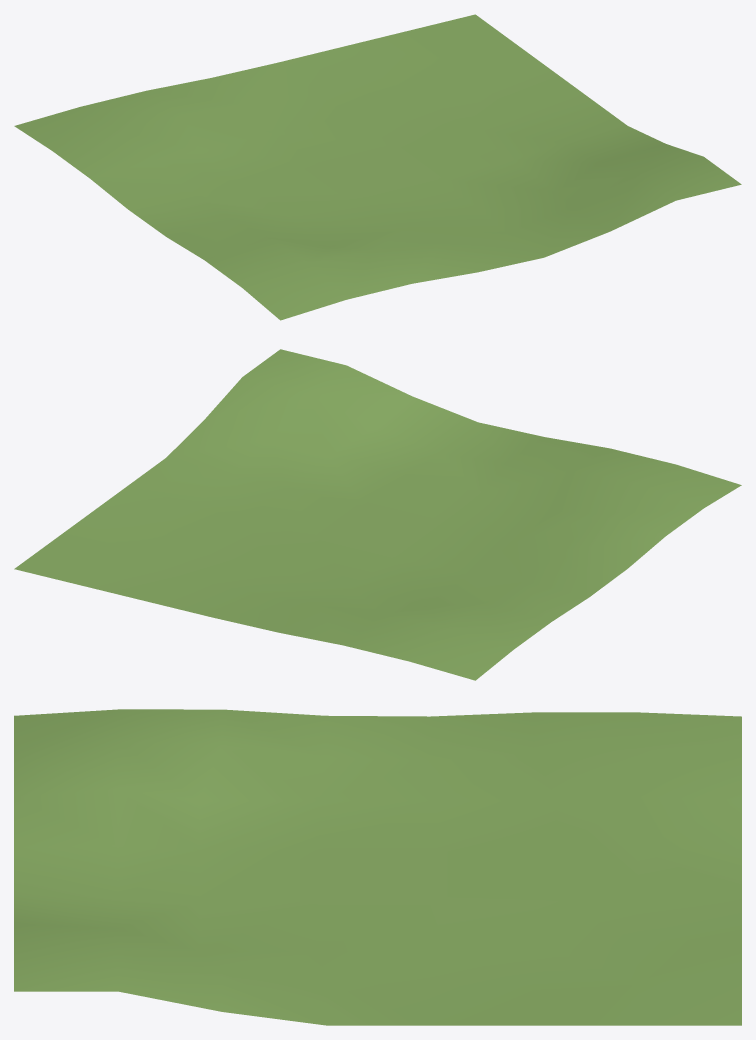
The model's file is Map_Terrain.fbx.
3 views of the same model, one above another, from view 1: azimuth 30°, elevation 25°; view 2: azimuth 150°, elevation 25°; view 3: azimuth 270°, elevation 25° (orthographic). The views are drawn at different scales.
Parts seen in each view (by area): view 1: pPlane1; view 2: pPlane1; view 3: pPlane1.
Part boxes in pixels (box(x1,y1,x2,y2)): pPlane1: box(14, 14, 741, 320); pPlane1: box(14, 349, 741, 680); pPlane1: box(14, 709, 741, 1025).
Bounding box in the file's own units: 32076 × 1882 × 32076.
